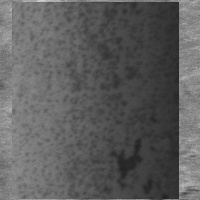pitted_surface: (12, 2, 179, 199)
rolled-in_scale: (72, 126, 117, 200), (143, 146, 199, 200), (71, 61, 110, 110), (85, 1, 122, 40)
